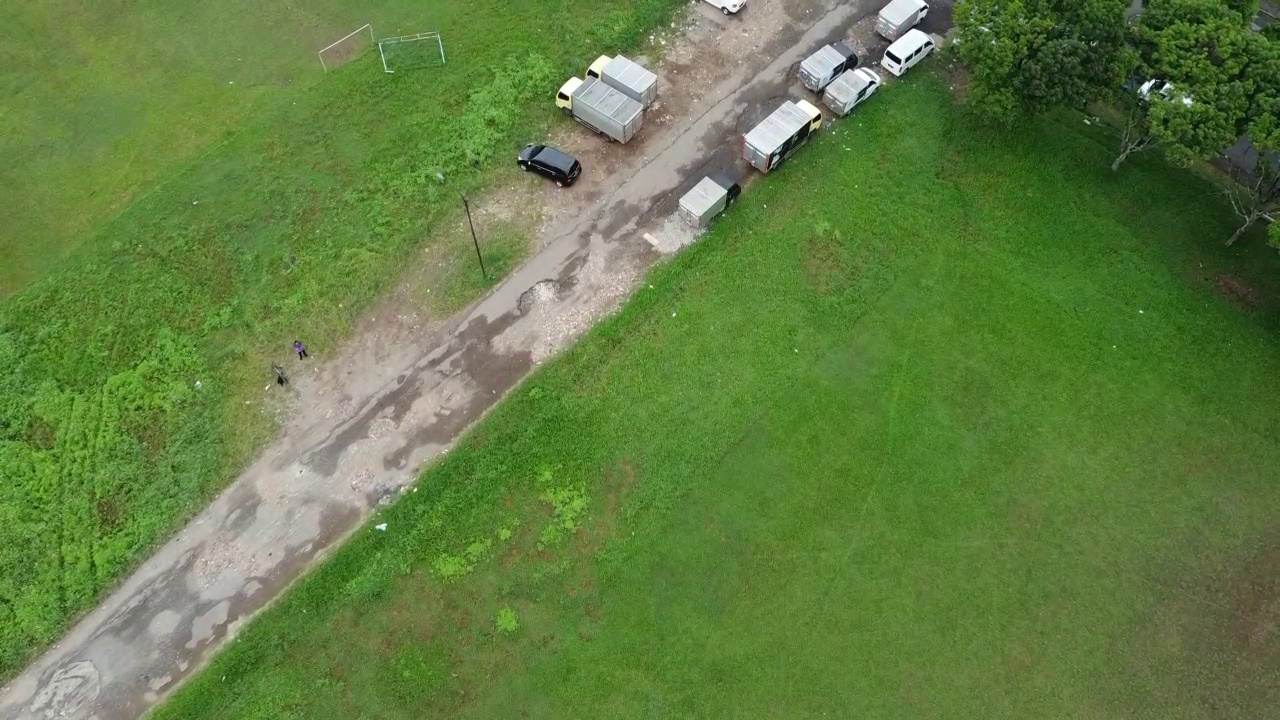mobil: (516, 141, 589, 186), (880, 28, 940, 76)
